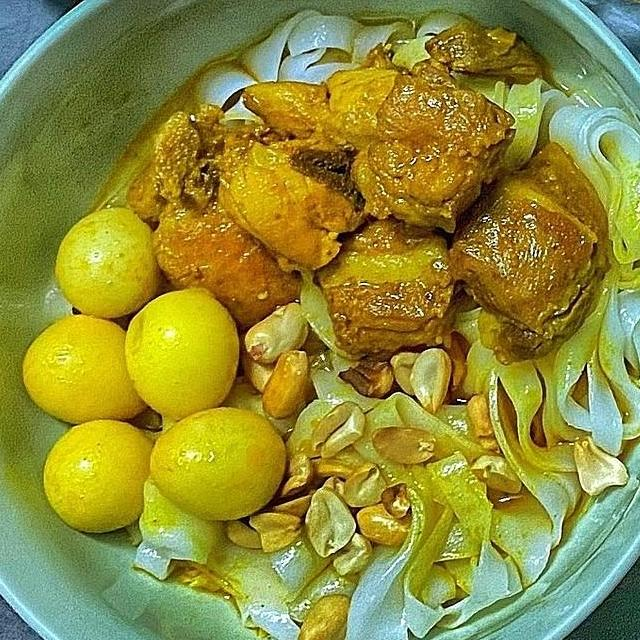mi: (214, 320, 640, 640), (495, 72, 640, 395), (186, 0, 471, 133)
thit heo: (116, 98, 314, 322), (205, 64, 412, 276), (433, 138, 612, 368), (344, 58, 518, 244), (309, 210, 466, 360)
trung: (116, 282, 244, 426), (143, 402, 290, 524), (38, 412, 170, 538), (16, 307, 152, 428), (53, 204, 164, 322)
